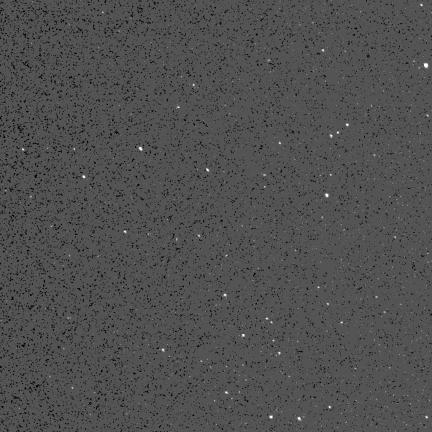blob: (424, 63, 428, 68), (139, 147, 143, 151), (206, 169, 210, 173), (297, 417, 301, 421), (346, 123, 350, 127), (225, 392, 229, 395), (22, 148, 25, 152), (124, 230, 127, 234), (82, 176, 86, 179), (241, 334, 245, 337), (279, 142, 282, 145), (266, 318, 269, 321), (337, 132, 340, 135), (224, 294, 227, 297), (329, 406, 332, 409), (322, 49, 325, 52), (325, 194, 328, 197), (330, 135, 333, 138), (270, 415, 272, 418)
